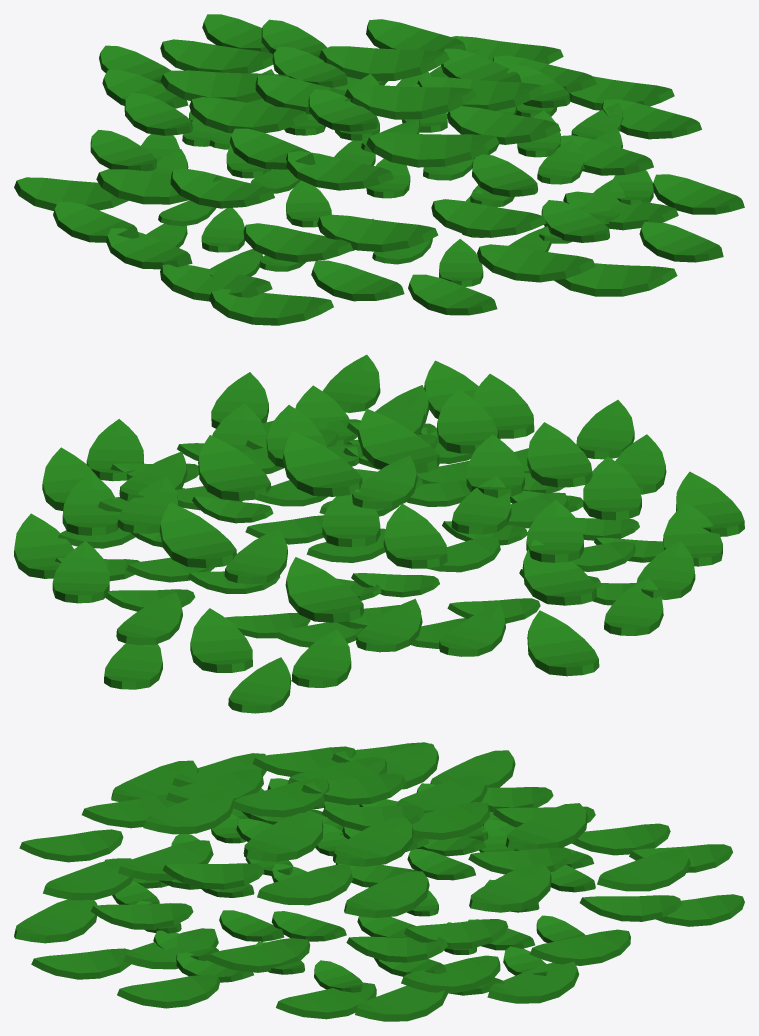
The model's file is PilaHoja1.fbx.
3 renders of one model, top to bottom at view 1: azimuth 30°, elevation 25°; view 2: azimuth 150°, elevation 25°; view 3: azimuth 270°, elevation 25°, orthographic. The views are drawn at different scales.
Visible parts, largest first — view 1: PilaHojas1; view 2: PilaHojas1; view 3: PilaHojas1.
Part boxes in pixels (x1,y1,x2,y2): PilaHojas1: [14, 14, 744, 325]; PilaHojas1: [14, 354, 744, 713]; PilaHojas1: [14, 742, 744, 1021].
Bounding box in the file's own units: 49.78 × 6.81 × 56.37.
